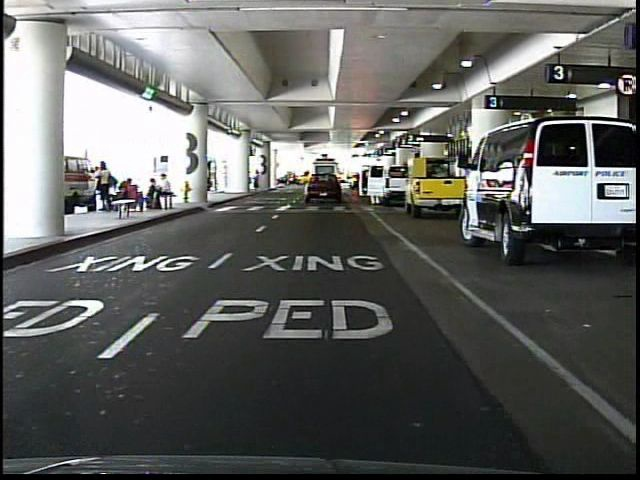person: (252, 168, 264, 192)
